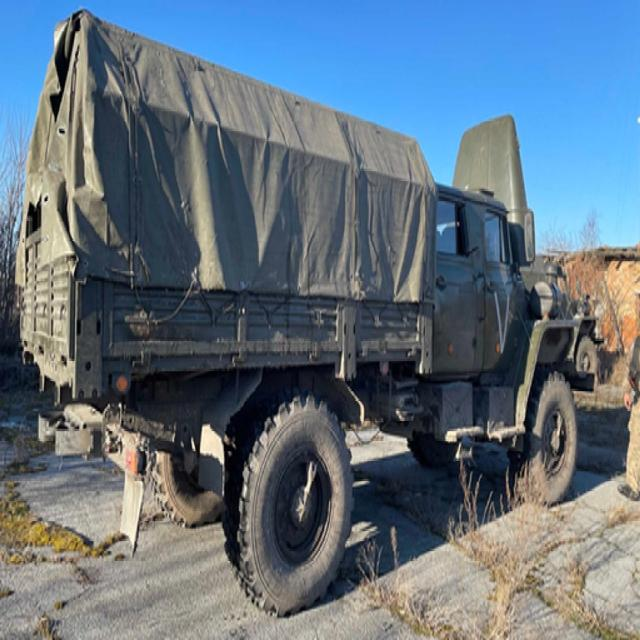TRUCK: (10, 4, 601, 618)
